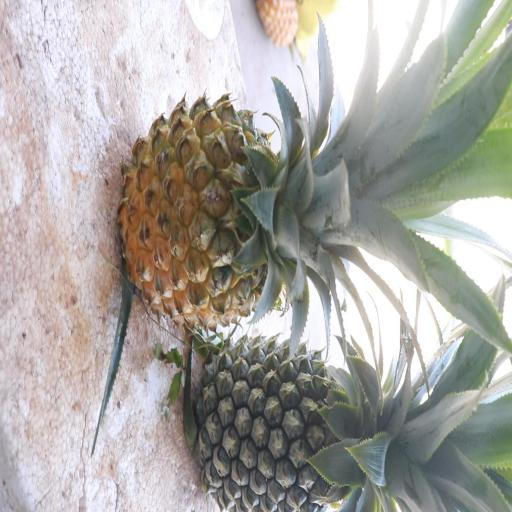Pineapple - v8 v1: (118, 92, 389, 327)
